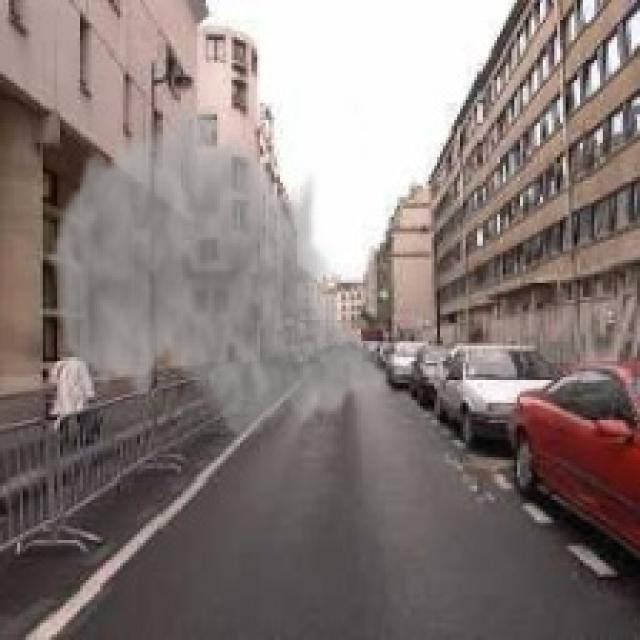Smoke: (46, 91, 394, 448)
